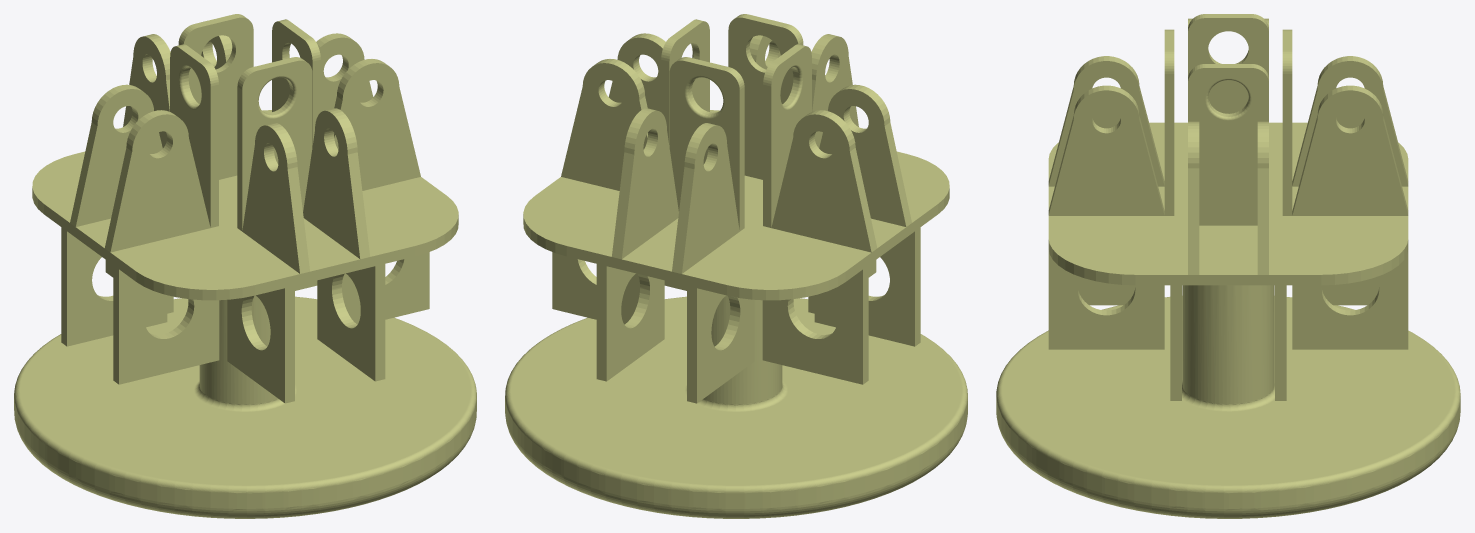
Rendered from case-03_lib00001.glb.
3 renders of one model, left to right at view 1: azimuth 30°, elevation 25°; view 2: azimuth 150°, elevation 25°; view 3: azimuth 270°, elevation 25°, orthographic.
Parts seen in each view (by area): view 1: lib00001; view 2: lib00001; view 3: lib00001.
Part boxes in pixels (x1=…): lib00001: x1=14, y1=14, x2=476, y2=518; lib00001: x1=505, y1=14, x2=967, y2=518; lib00001: x1=996, y1=14, x2=1460, y2=518.
Bounding box in the file's own units: 78 × 71.47 × 78.
